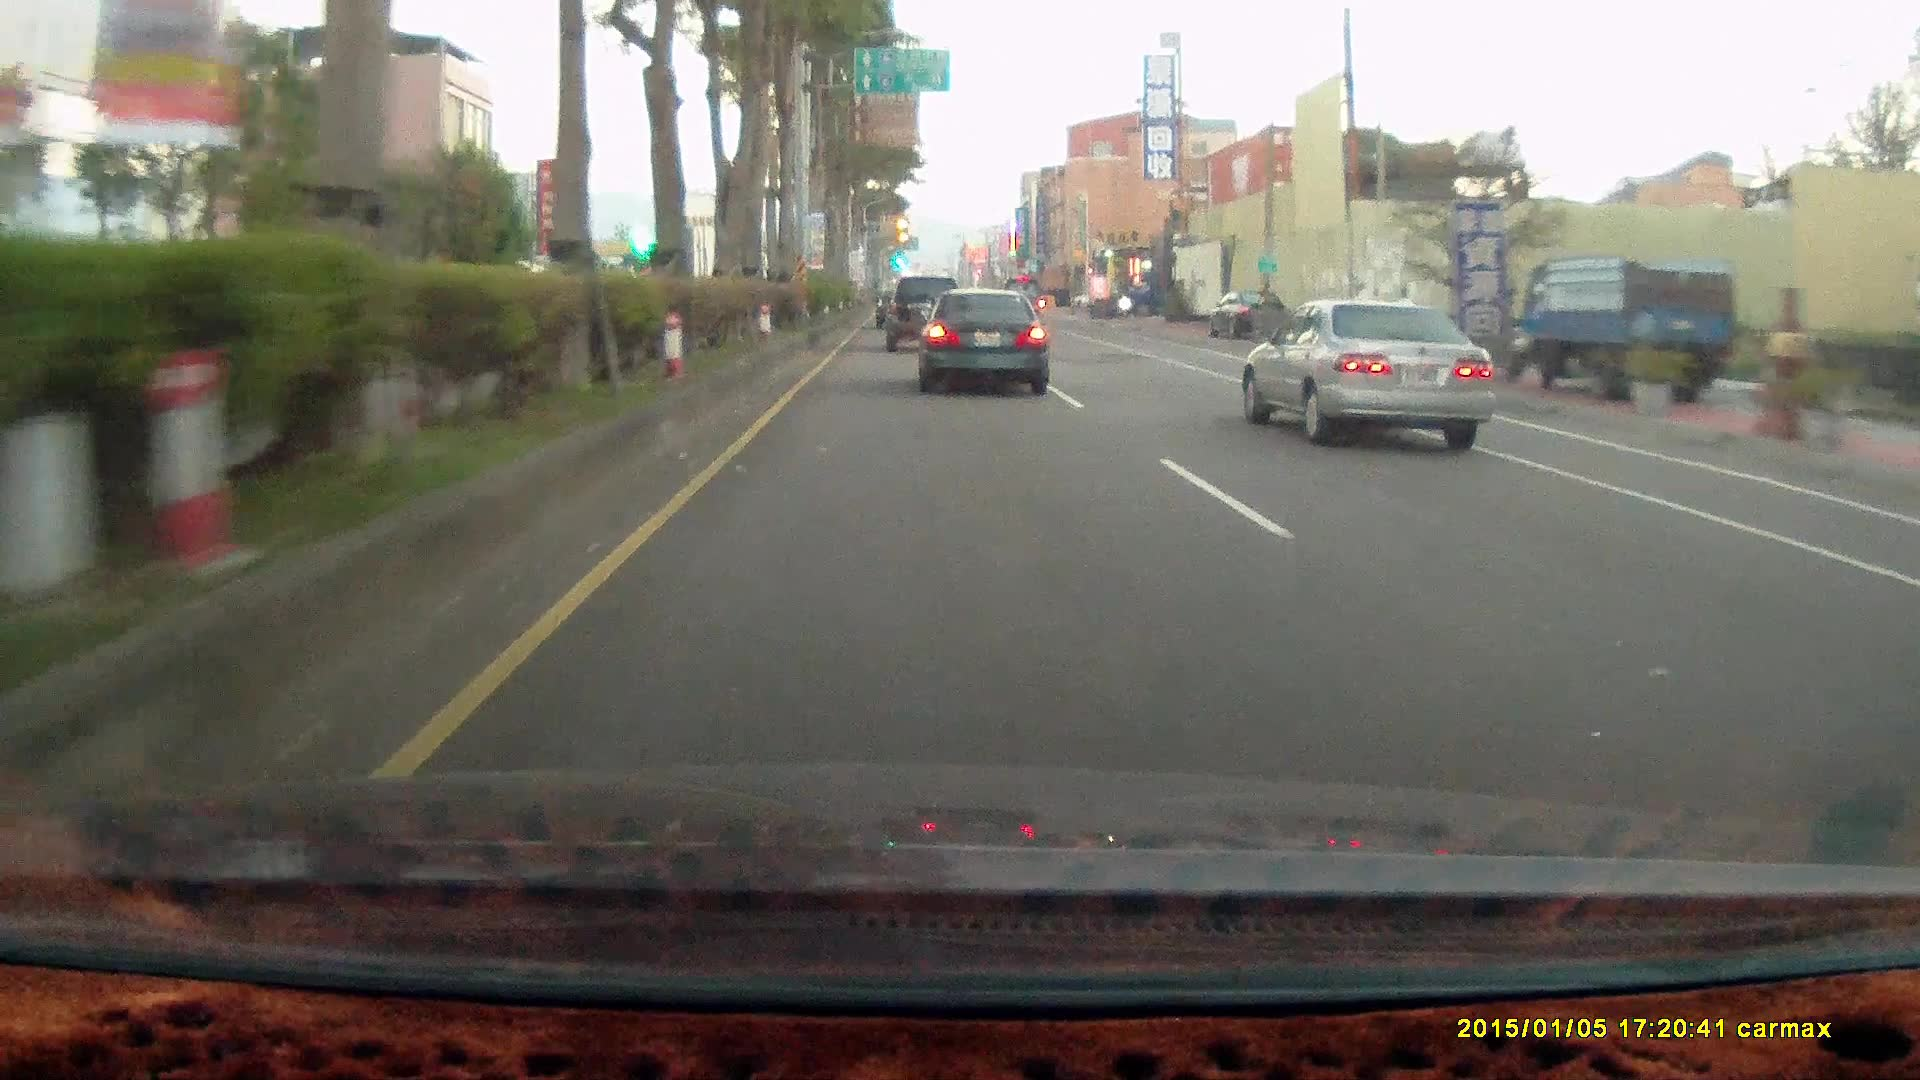vehicle: (1244, 301, 1509, 454), (1240, 298, 1495, 454), (1513, 252, 1741, 409), (1519, 253, 1737, 404), (914, 286, 1048, 393), (919, 291, 1051, 396), (884, 274, 965, 352), (1209, 291, 1294, 344), (1117, 272, 1189, 316)
